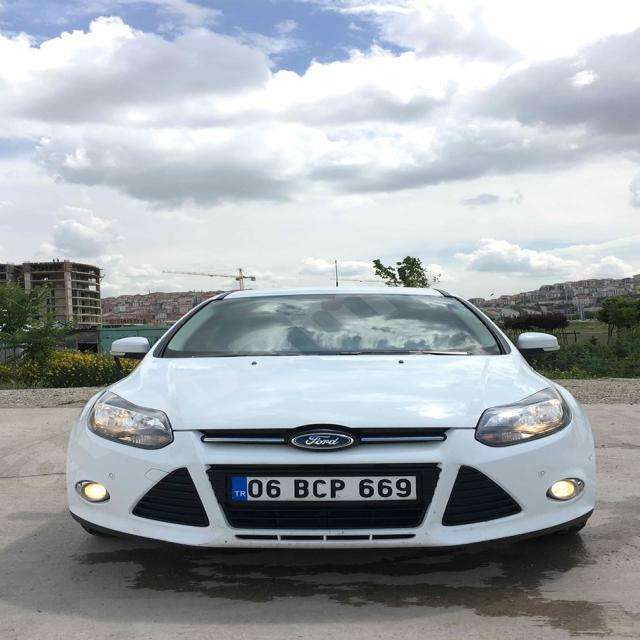license_plate: (229, 475, 418, 501)
